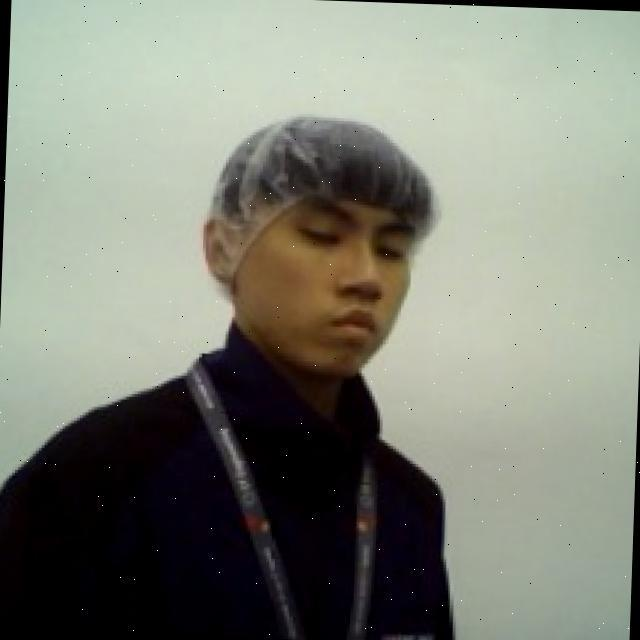gloves: (198, 109, 444, 292)
no_hairnet: (196, 226, 433, 387)
